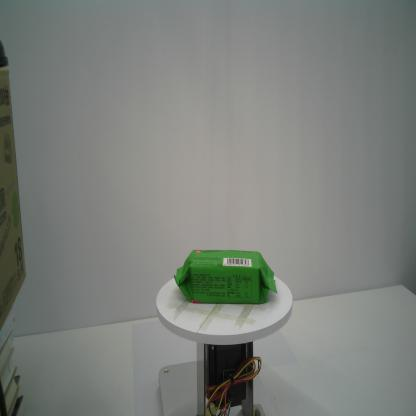Dessert: (174, 249, 278, 305)
